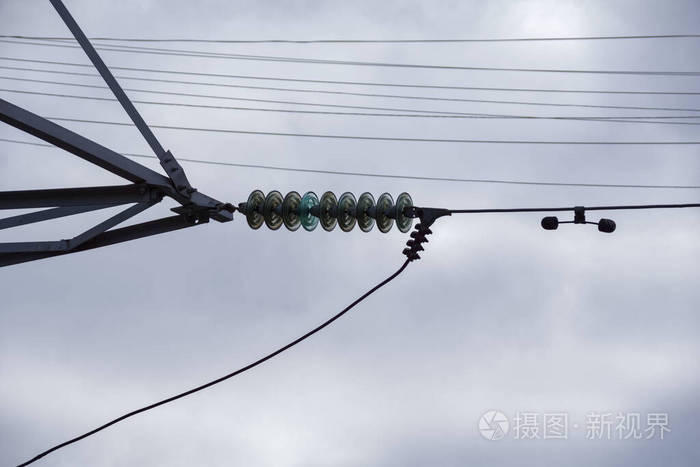insulator: (243, 189, 418, 233)
